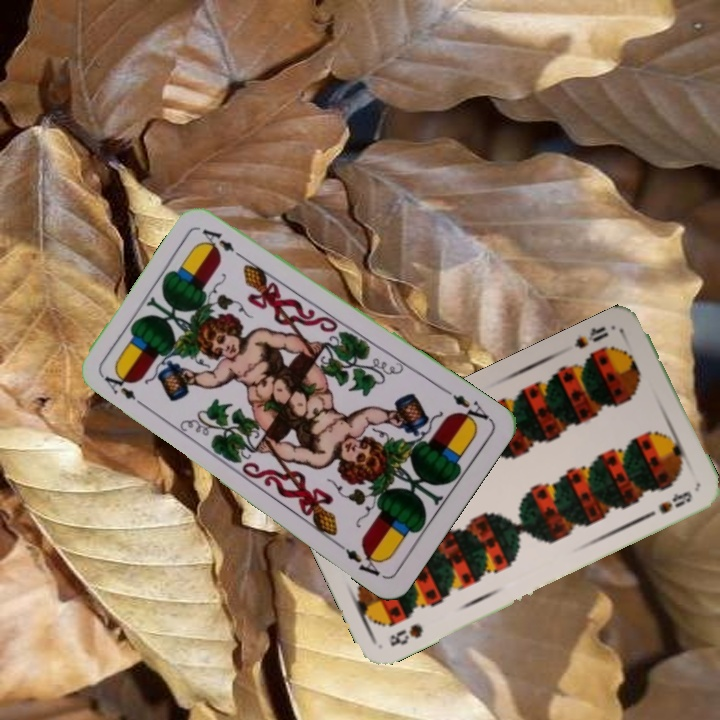EA: (441, 385, 494, 429), (100, 372, 150, 412)
S8: (570, 322, 611, 352), (384, 620, 426, 649)
